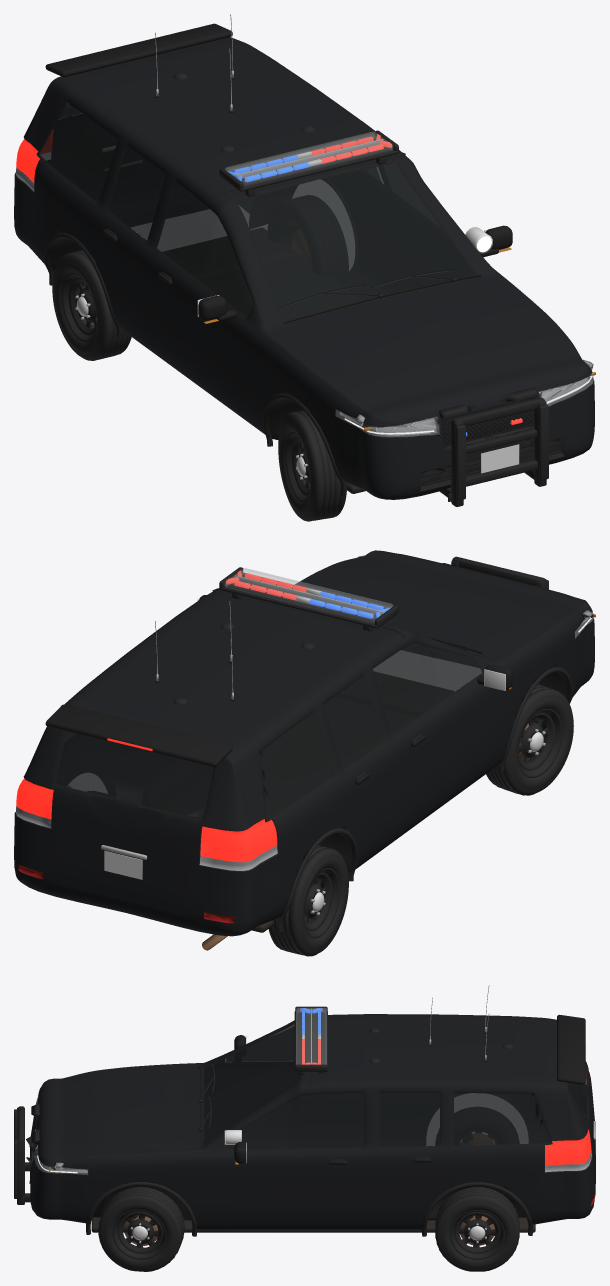
The model's file is police_suv.glb.
3 views of the same model, one above another, from view 1: azimuth 30°, elevation 25°; view 2: azimuth 150°, elevation 25°; view 3: azimuth 270°, elevation 25° (orthographic). The views are drawn at different scales.
Parts seen in each view (by area): view 1: police_suv_body, police_suv_glass, police_suv_wheel_RR, police_suv_wheel_FR, police_suv_wheel_RL, police_suv_lightbar_lens, police_suv_lightbar; view 2: police_suv_body, police_suv_glass, police_suv_wheel_FR, police_suv_wheel_RR, police_suv_lightbar_lens, police_suv_lightbar; view 3: police_suv_body, police_suv_glass, police_suv_wheel_RL, police_suv_wheel_FL, police_suv_wheel_RR, police_suv_lightbar, police_suv_lightbar_lens.
Part boxes in pixels (x1=…): police_suv_body: x1=14, y1=14, x2=595, y2=506; police_suv_glass: x1=39, y1=103, x2=593, y2=437; police_suv_wheel_RR: x1=52, y1=250, x2=131, y2=360; police_suv_wheel_FR: x1=278, y1=410, x2=346, y2=521; police_suv_wheel_RL: x1=268, y1=195, x2=348, y2=277; police_suv_lightbar_lens: x1=225, y1=132, x2=393, y2=186; police_suv_lightbar: x1=212, y1=130, x2=405, y2=201; police_suv_body: x1=14, y1=550, x2=595, y2=950; police_suv_glass: x1=55, y1=611, x2=593, y2=819; police_suv_wheel_FR: x1=486, y1=684, x2=573, y2=795; police_suv_wheel_RR: x1=268, y1=845, x2=348, y2=956; police_suv_lightbar_lens: x1=225, y1=568, x2=393, y2=622; police_suv_lightbar: x1=212, y1=567, x2=405, y2=637; police_suv_body: x1=14, y1=985, x2=595, y2=1236; police_suv_glass: x1=34, y1=1024, x2=587, y2=1174; police_suv_wheel_RL: x1=435, y1=1187, x2=519, y2=1271; police_suv_wheel_FL: x1=98, y1=1187, x2=184, y2=1271; police_suv_wheel_RR: x1=436, y1=1107, x2=518, y2=1145; police_suv_lightbar: x1=294, y1=1006, x2=327, y2=1087; police_suv_lightbar_lens: x1=296, y1=1008, x2=326, y2=1064.
Size of the model in its own units: 2.47 by 2.28 by 5.24.
